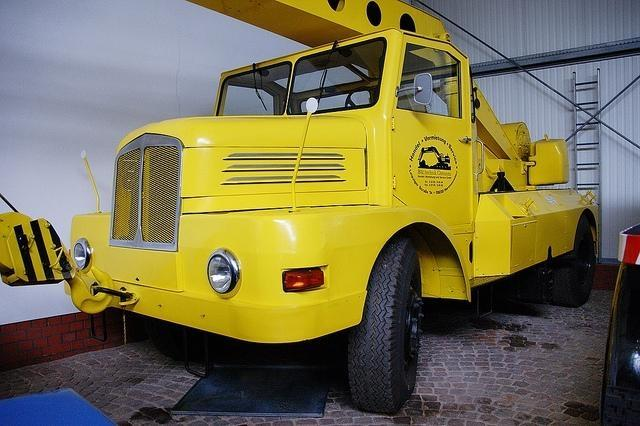truck: (1, 1, 600, 414)
